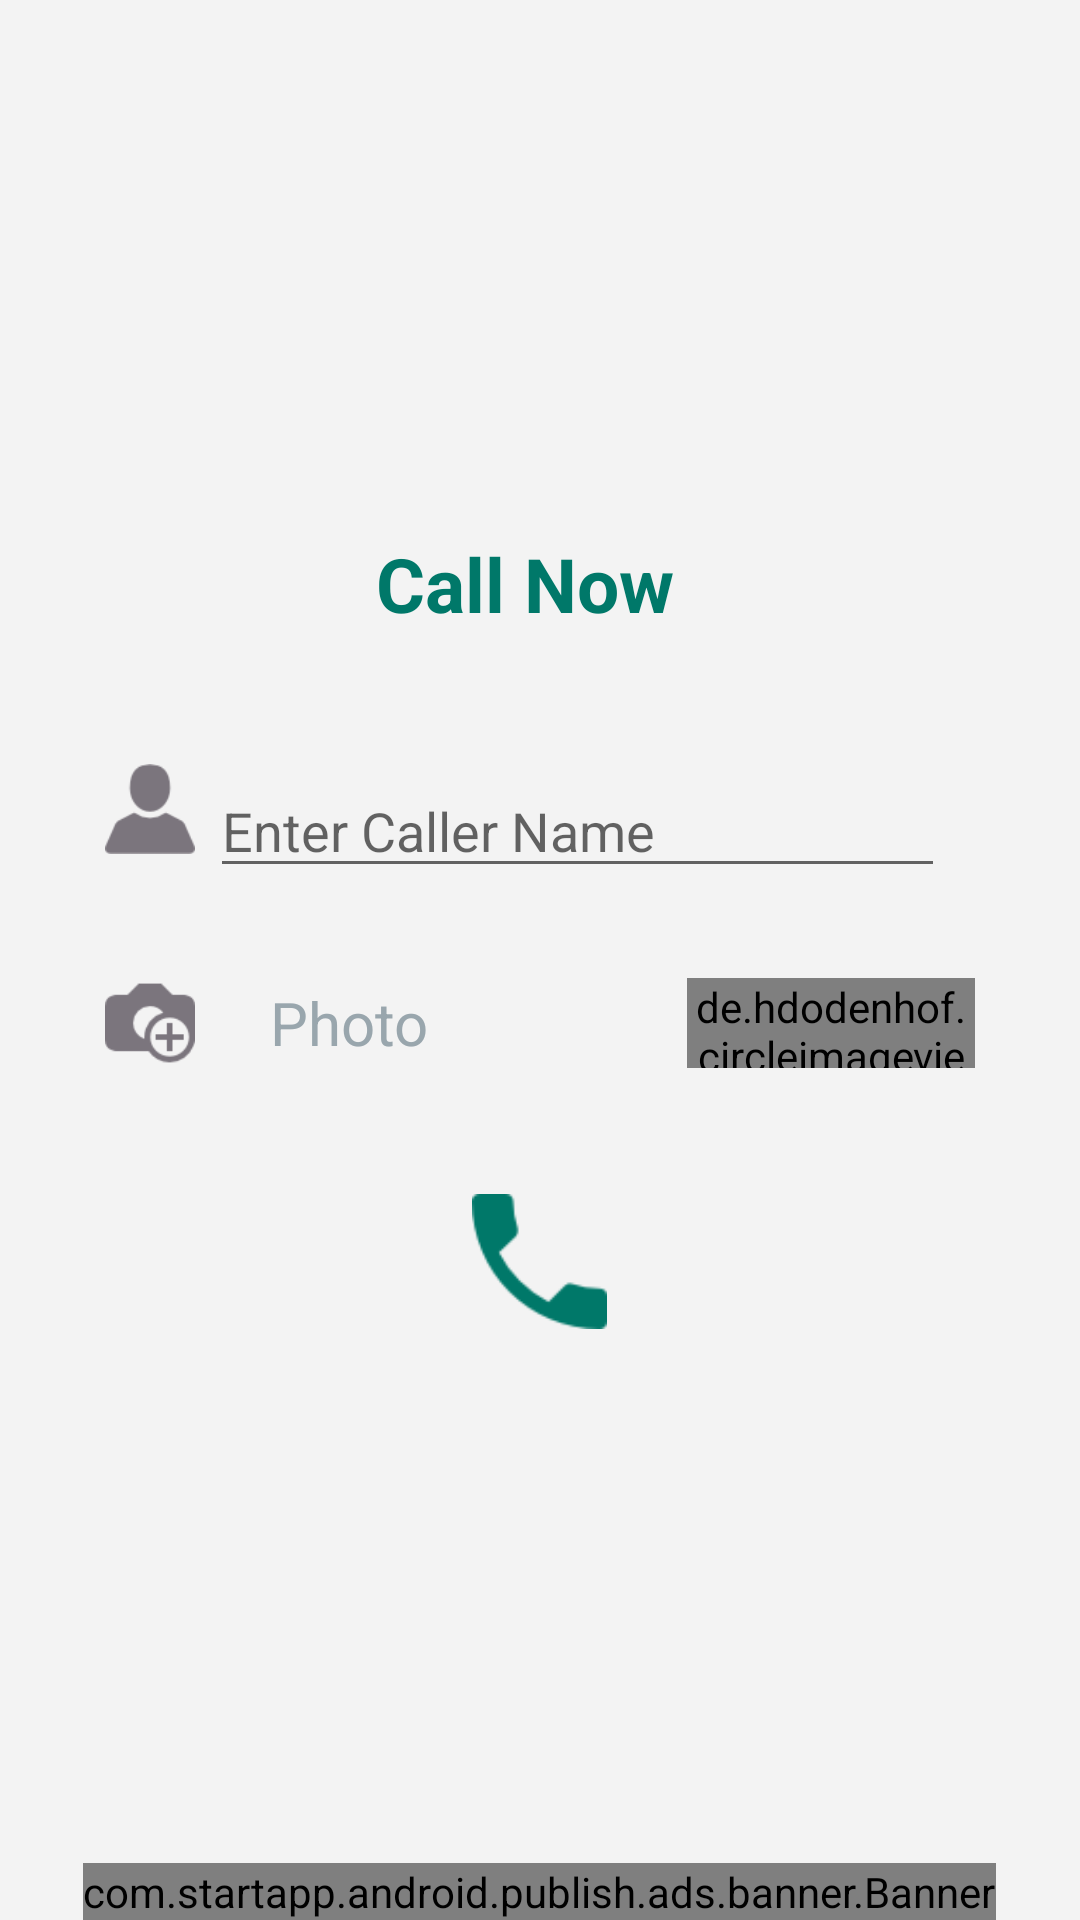

Point at icon controls on the screen. Image size 1080×1920, points as [x,y].
callback: [539,1261]
user: [150,809]
